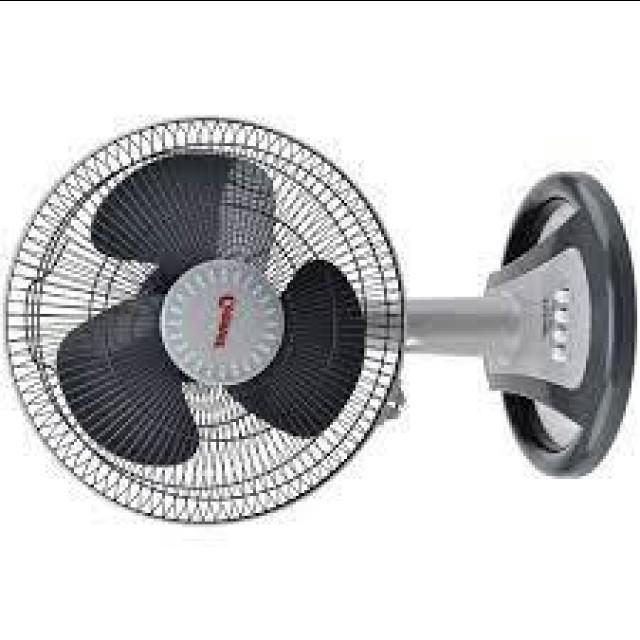fan: (0, 100, 629, 526)
